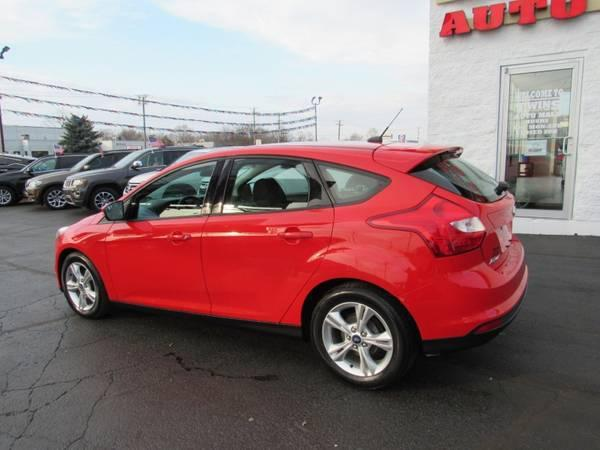Front_Fender: (52, 215, 118, 304)
Front_Left_Door: (105, 214, 209, 313)
Front_Left_Window: (114, 159, 230, 222)
Left_Taillight: (365, 194, 484, 256)
Rear_Bumper: (401, 237, 529, 351)
Rear_Fender: (309, 162, 430, 297)
Rear_Left_Door: (202, 208, 335, 327)
Rear_Left_Window: (212, 157, 333, 215)
Rear_Windshield: (410, 154, 506, 204)
Roof: (106, 144, 461, 210)
Tailgate: (479, 189, 514, 266)
Wheel: (306, 286, 412, 392), (61, 256, 101, 313)
